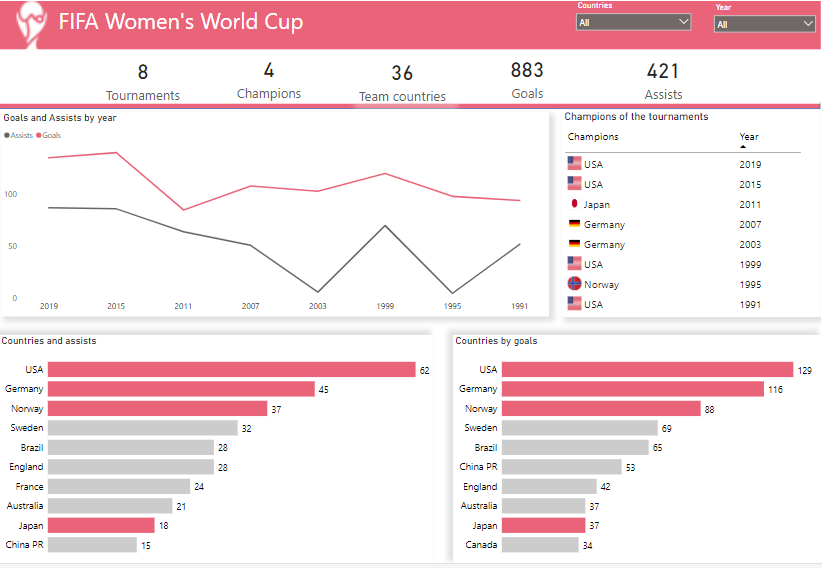

Layout of this report page (visuals, bound fields, positions):
{"tool":"powerbi","page":{"name":"FIFA Women's World Cup","canvas":[1600,1100],"ordinal":0},"visuals":[{"type":"shape","box":[0,4.6,1599.4,200.3],"z":0,"group":"g2"},{"type":"tableEx","title":"Champions of the tournaments","fields":{"Values":["sports.Champions name","sports.year"]},"box":[1095.6,217.8,503.8,402.6],"z":0},{"type":"lineChart","title":"Goals and Assists by year","fields":{"Y":["Sum(sports.assists)"],"Y2":["Sum(sports.goals)"],"Category":["sports.year"]},"box":[4.4,222.2,1067,398.2],"z":1000},{"type":"shape","box":[0,202.4,1599.4,13.2],"z":2000},{"type":"shape","box":[1.9,4.6,1597.5,93.9],"z":3000,"group":"g2"},{"type":"clusteredBarChart","title":"Countries and assists","fields":{"Category":["sports.squad"],"Y":["Sum(sports.assists)"]},"box":[0,655.6,844.8,444.4],"z":3000},{"type":"group","id":"g1","title":"Group 1","box":[0,0.4,1599.4,208.6],"z":4000},{"type":"card","fields":{"Values":["_Measures.Number of tournaments"]},"box":[176.6,102.7,206.4,106.4],"z":4000,"group":"g2"},{"type":"card","fields":{"Values":["_Measures.Number of teams"]},"box":[687.2,106.4,195.7,100],"z":5000},{"type":"barChart","title":"Countries by goals","fields":{"Category":["sports.squad"],"Y":["_Measures.Total goals"]},"box":[884,656,716,444],"z":6000},{"type":"card","fields":{"Values":["_Measures.No of Champions"]},"box":[423.4,100,206.4,106.4],"z":7000},{"type":"image","box":[28.6,0,120.6,122.2],"z":8000},{"type":"card","fields":{"Values":["Sum(sports.goals)"]},"box":[917,96.3,223.4,108.5],"z":8000,"group":"g2"},{"type":"group","id":"g2","title":"Group 2","box":[0,3.4,1599.4,205.6],"z":8001,"group":"g1"},{"type":"slicer","fields":{"Values":["sports.year"]},"box":[1381.6,3.4,217.8,99],"z":13000,"group":"g2"},{"type":"slicer","fields":{"Values":["sports.squad"]},"box":[1113.2,0.4,244.2,103.4],"z":14000,"group":"g1"},{"type":"textbox","box":[110.6,9.3,620.6,70.4],"z":15000,"group":"g2"},{"type":"card","fields":{"Values":["Sum(sports.assists)"]},"box":[1140.4,102.7,306.4,102.1],"z":16000,"group":"g2"}]}

Visuals, with their boxes in screenshot pixels (x1, y1, x2, y2), scaled from the page's 1600x1100 canvas onto the 822x568 screenshot:
shape: <bbox>0, 2, 821, 106</bbox>
"Champions of the tournaments" tableEx: <bbox>563, 112, 821, 320</bbox>
"Goals and Assists by year" lineChart: <bbox>2, 115, 550, 320</bbox>
shape: <bbox>0, 105, 821, 111</bbox>
shape: <bbox>1, 2, 821, 51</bbox>
"Countries and assists" clusteredBarChart: <bbox>0, 339, 434, 567</bbox>
"Group 1" group: <bbox>0, 0, 821, 108</bbox>
card - _Measures.Number of tournaments: <bbox>91, 53, 197, 108</bbox>
card - _Measures.Number of teams: <bbox>353, 55, 454, 107</bbox>
"Countries by goals" barChart: <bbox>454, 339, 821, 567</bbox>
card - _Measures.No of Champions: <bbox>218, 52, 324, 107</bbox>
image: <bbox>15, 0, 77, 63</bbox>
card - Sum(sports.goals): <bbox>471, 50, 586, 106</bbox>
"Group 2" group: <bbox>0, 2, 821, 108</bbox>
slicer - sports.year: <bbox>710, 2, 821, 53</bbox>
slicer - sports.squad: <bbox>572, 0, 697, 54</bbox>
textbox: <bbox>57, 5, 376, 41</bbox>
card - Sum(sports.assists): <bbox>586, 53, 743, 106</bbox>
